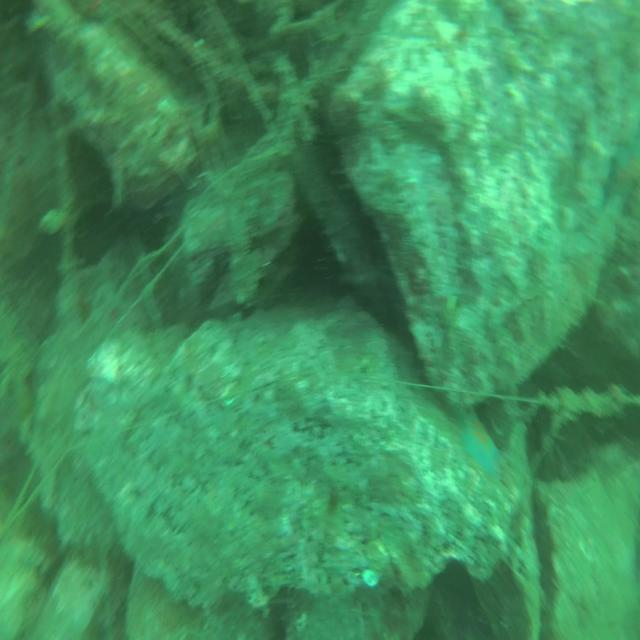starfish: (457, 396, 509, 490)
